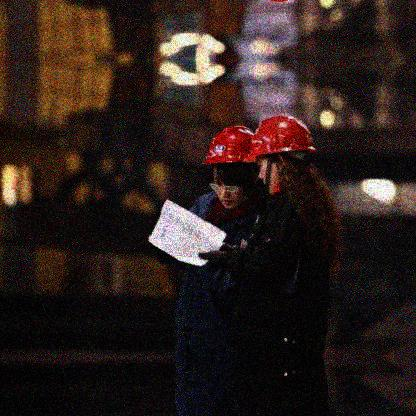helmet: (243, 115, 319, 194), (200, 124, 256, 210)
